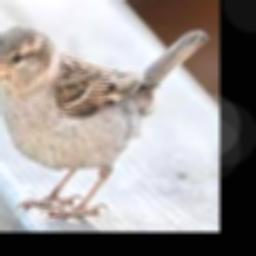Sparrow: (0, 24, 209, 216)
